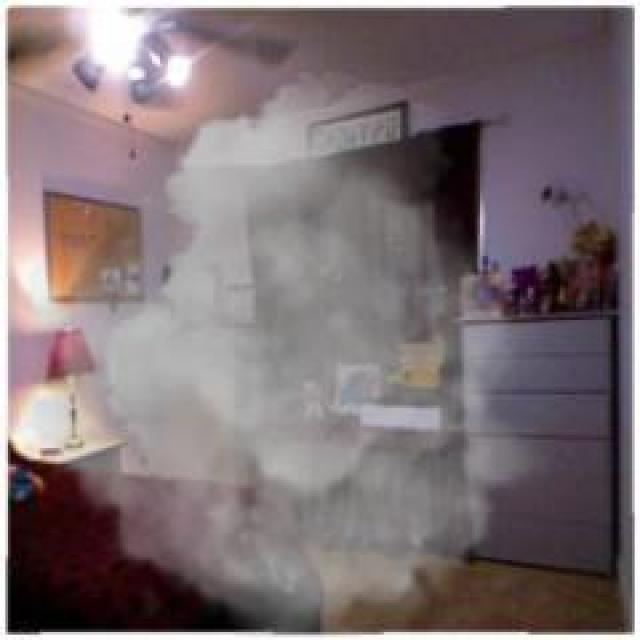fire: (2, 72, 554, 638)
